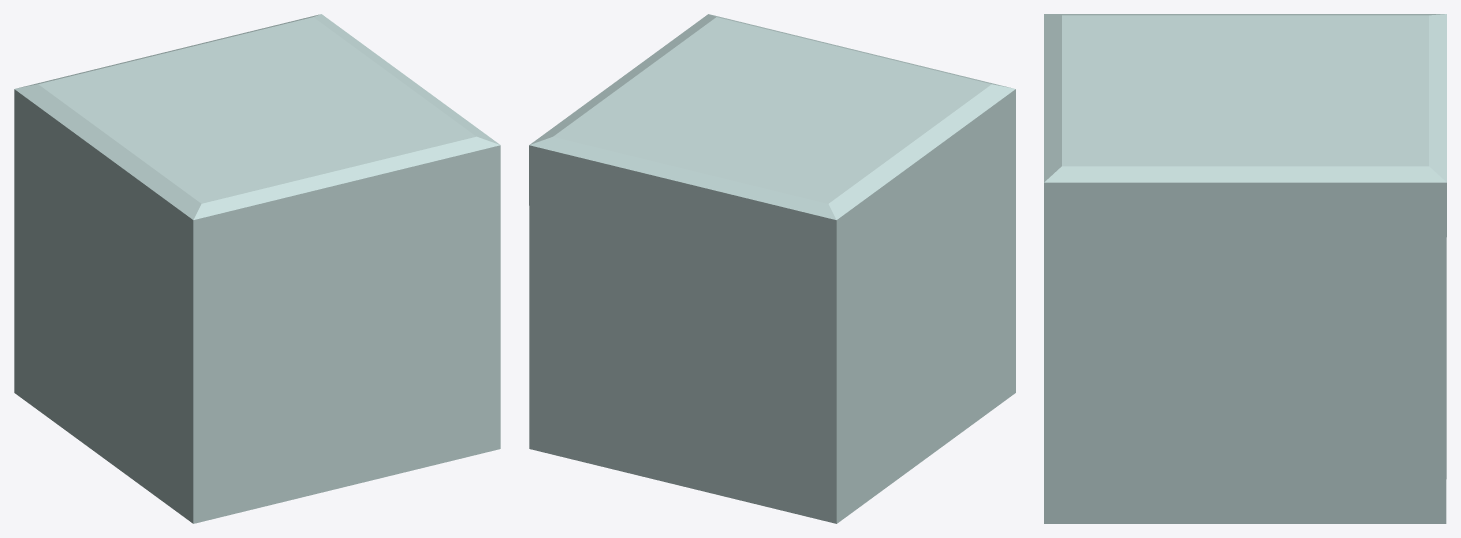
The model's file is Midlle_Icetile_01_WithAnim.fbx.
3 views of the same model, side by side, from view 1: azimuth 30°, elevation 25°; view 2: azimuth 150°, elevation 25°; view 3: azimuth 270°, elevation 25° (orthographic). The views are drawn at different scales.
Visible parts, largest first — view 1: Middle_Icetile__01; view 2: Middle_Icetile__01; view 3: Middle_Icetile__01.
Boxes of the visible parts, x1,y1,x2,y2 form: Middle_Icetile__01: [14, 14, 500, 523]; Middle_Icetile__01: [529, 14, 1015, 523]; Middle_Icetile__01: [1044, 14, 1446, 523].
Size of the model in its own units: 2.97 by 2.87 by 3.
